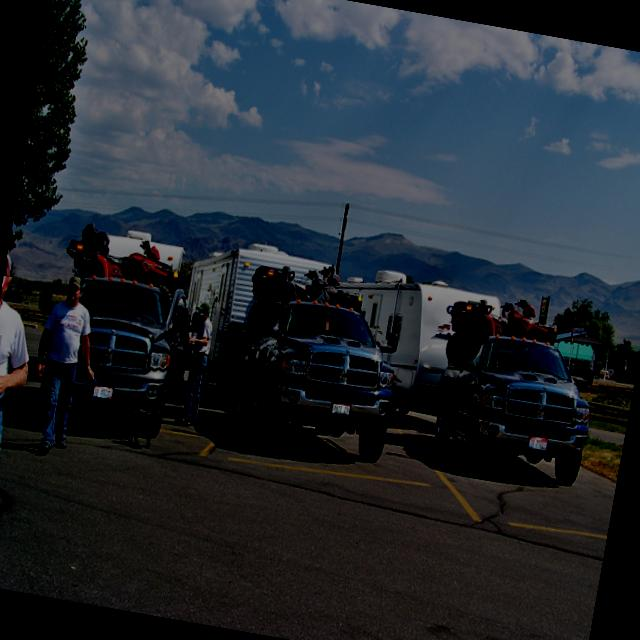Vehicle: (164, 232, 418, 468), (16, 216, 216, 452), (423, 324, 602, 492), (58, 220, 188, 318), (244, 250, 368, 348), (454, 294, 558, 374)
